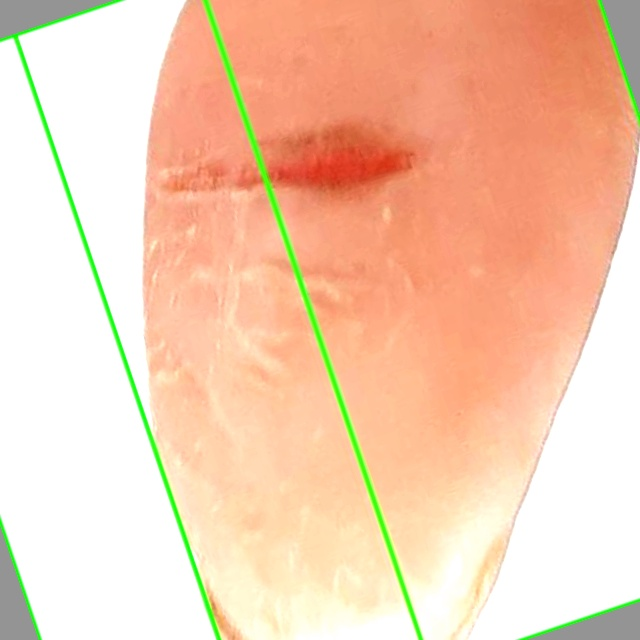Contact Dermatitis: (14, 0, 639, 639), (0, 0, 420, 639)
